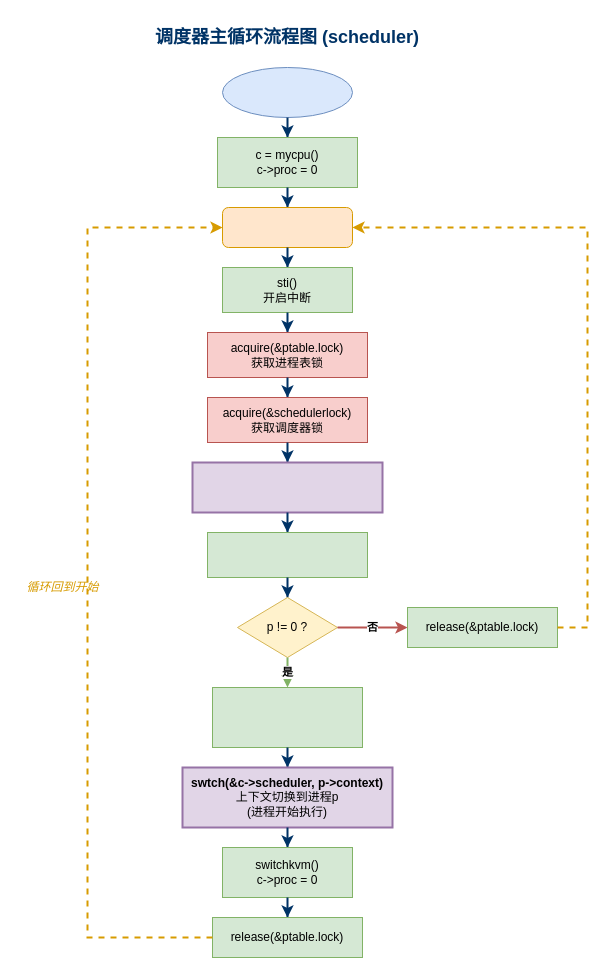
Some shapes in this 613 by 975 pixel diagram are drawn without their labels. Each missing label, with the box of its shape:
c->proc = p switchuvm(p) p->state = RUNNING: (212, 686, 362, 748)
p = (*ready_process)() 调用当前调度算法: (191, 461, 383, 513)
release(&schedulerlock) 释放调度器锁: (206, 532, 368, 578)
scheduler(): (222, 66, 352, 118)
无限循环开始: (222, 206, 352, 248)
